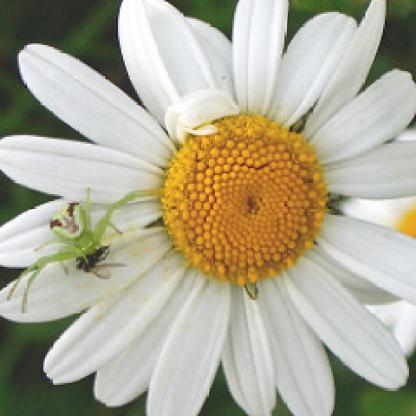ASTER: (3, 10, 412, 410)
